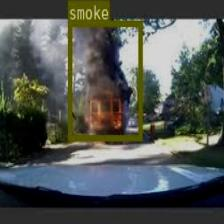smoke: (67, 20, 142, 140)
